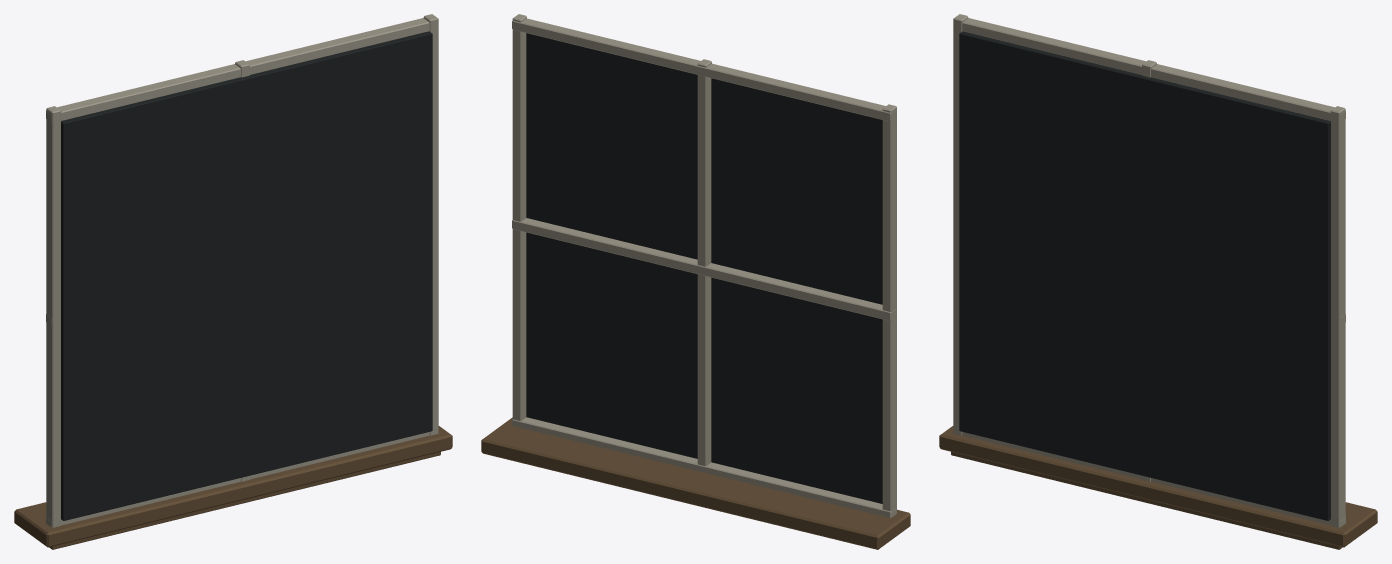
File: window-recess-lod1.fbx
3 renders of one model, left to right at view 1: azimuth 30°, elevation 25°; view 2: azimuth 150°, elevation 25°; view 3: azimuth 330°, elevation 25°, orthographic. The views are drawn at different scales.
Visible parts, largest first — view 1: Opaque night and grime window backing, Worn projecting timber school sill, Eased enamel school window mullion, Eased school window enamel rail.002, Eased enamel school window mullion.002, Eased school window enamel rail, Sill small supporting profile; view 2: Opaque night and grime window backing, Worn projecting timber school sill, Eased enamel school window mullion, Eased enamel school window mullion.001, Eased enamel school window mullion.002, Eased school window enamel rail.002, Eased school window enamel rail.001, Eased school window enamel rail; view 3: Opaque night and grime window backing, Worn projecting timber school sill, Eased enamel school window mullion.002, Eased school window enamel rail.002, Eased enamel school window mullion, Eased school window enamel rail, Sill small supporting profile.
Boxes of the visible parts, x1=… form: Opaque night and grime window backing: x1=61, y1=31, x2=432, y2=520; Worn projecting timber school sill: x1=14, y1=426, x2=452, y2=547; Eased enamel school window mullion: x1=46, y1=106, x2=61, y2=527; Eased school window enamel rail.002: x1=46, y1=18, x2=429, y2=122; Eased enamel school window mullion.002: x1=423, y1=14, x2=438, y2=435; Eased school window enamel rail: x1=46, y1=432, x2=429, y2=527; Sill small supporting profile: x1=49, y1=451, x2=440, y2=549; Opaque night and grime window backing: x1=526, y1=33, x2=882, y2=503; Worn projecting timber school sill: x1=481, y1=417, x2=910, y2=549; Eased enamel school window mullion: x1=882, y1=104, x2=896, y2=513; Eased enamel school window mullion.001: x1=697, y1=59, x2=711, y2=465; Eased enamel school window mullion.002: x1=512, y1=14, x2=526, y2=420; Eased school window enamel rail.002: x1=512, y1=18, x2=896, y2=121; Eased school window enamel rail.001: x1=512, y1=218, x2=896, y2=320; Eased school window enamel rail: x1=512, y1=417, x2=896, y2=517; Opaque night and grime window backing: x1=959, y1=31, x2=1330, y2=520; Worn projecting timber school sill: x1=939, y1=426, x2=1377, y2=547; Eased enamel school window mullion.002: x1=1330, y1=106, x2=1345, y2=527; Eased school window enamel rail.002: x1=962, y1=18, x2=1345, y2=122; Eased enamel school window mullion: x1=953, y1=14, x2=968, y2=435; Eased school window enamel rail: x1=962, y1=432, x2=1345, y2=527; Sill small supporting profile: x1=951, y1=451, x2=1342, y2=549.
Size of the model in its own units: 188 by 193 by 27.
